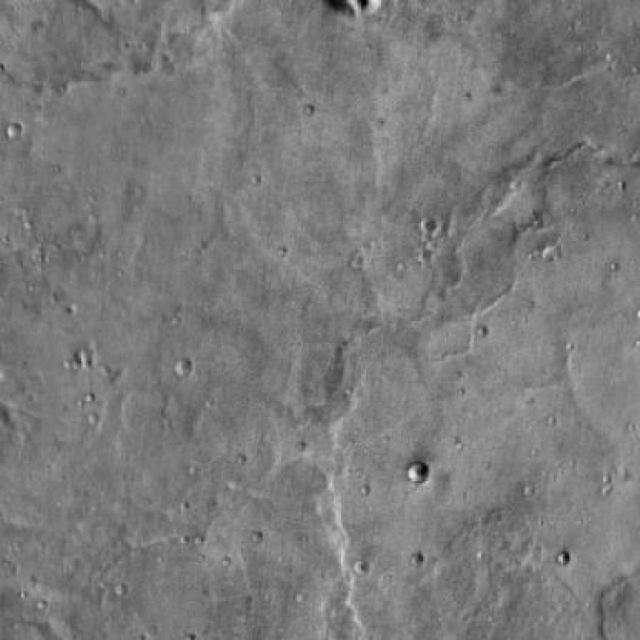crater: (408, 462, 429, 483), (173, 361, 192, 379), (420, 215, 438, 233), (352, 560, 368, 577)
